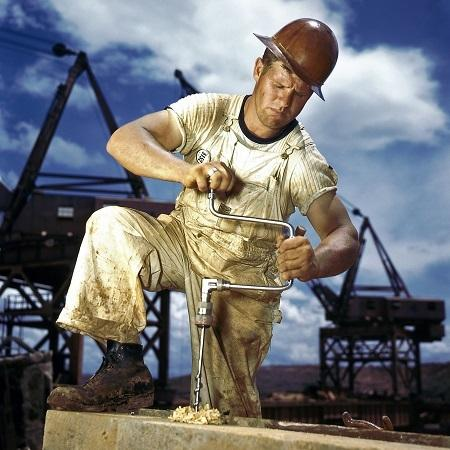helmet: (254, 17, 344, 99)
